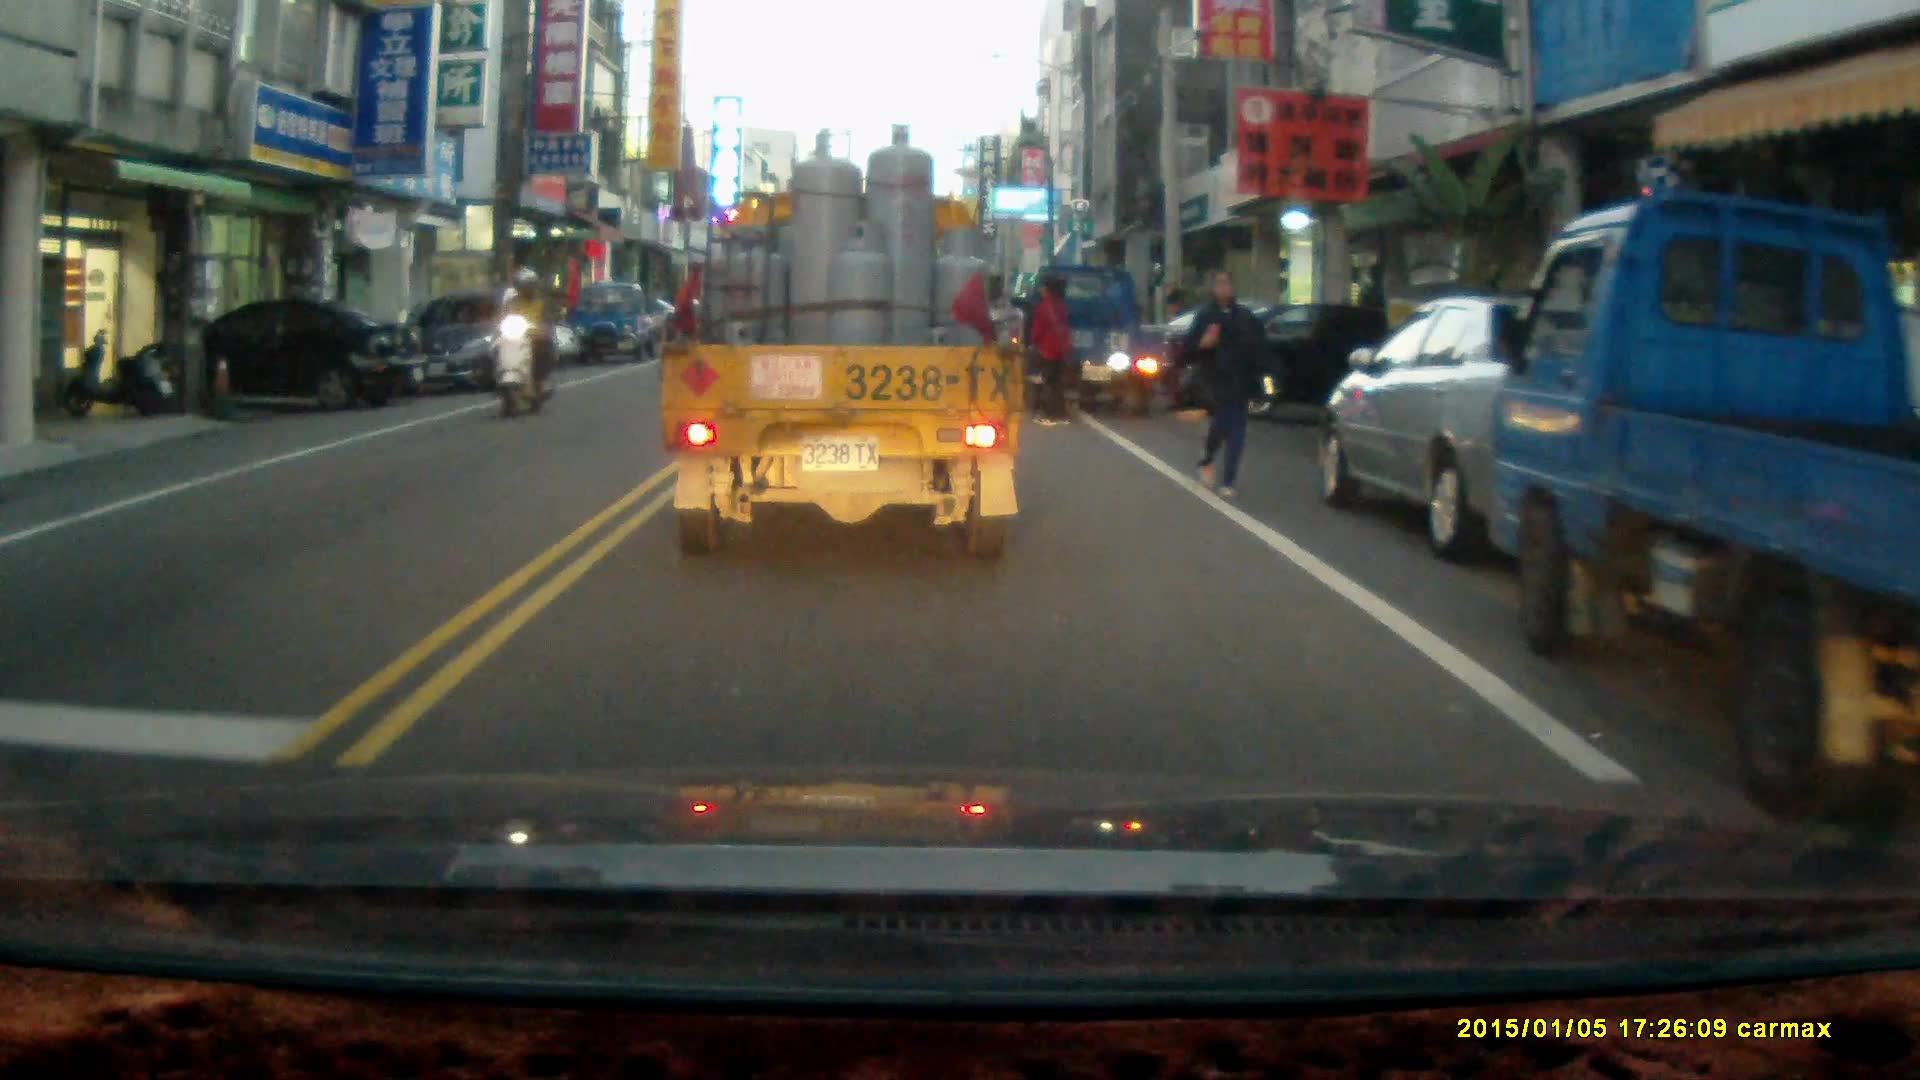pedestrian: (1179, 263, 1278, 500), (1024, 275, 1071, 421)
rider: (490, 266, 558, 420)
vehicle: (1490, 183, 1920, 799), (663, 124, 1027, 567), (1318, 292, 1666, 567), (1166, 297, 1460, 434), (110, 294, 421, 412), (1012, 261, 1169, 415), (411, 290, 561, 396), (569, 279, 671, 366)
